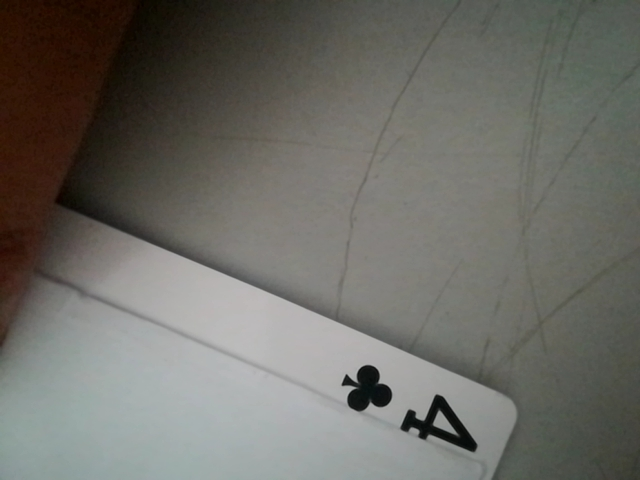mh 4: (323, 359, 485, 462)
